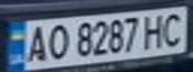2: (90, 17, 112, 56)
7: (121, 14, 142, 52)
8: (106, 16, 127, 54), (72, 19, 93, 57)
A: (21, 22, 51, 63)
C: (157, 9, 190, 47)
H: (139, 11, 169, 50)
O: (42, 21, 72, 61)
